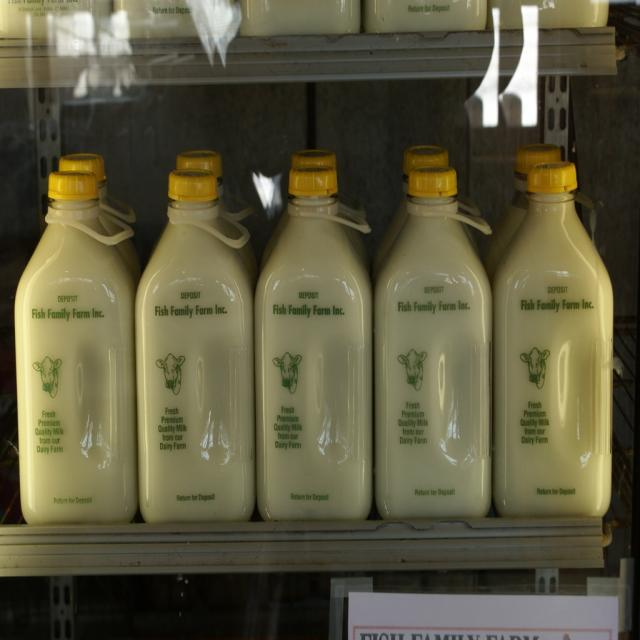Milk: (14, 179, 612, 517)
